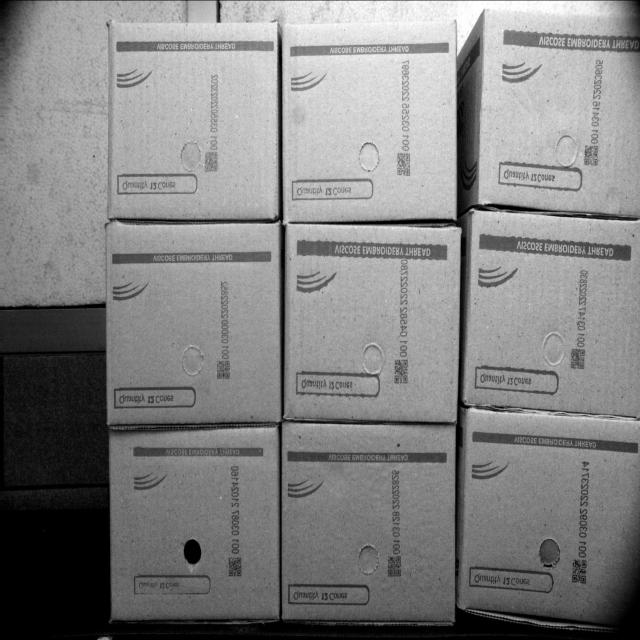cardboxes: (463, 410, 640, 628), (465, 207, 640, 415), (278, 423, 453, 630), (281, 21, 459, 217), (286, 228, 462, 424), (473, 7, 640, 211), (107, 223, 281, 418), (108, 17, 276, 217), (111, 432, 281, 621)
